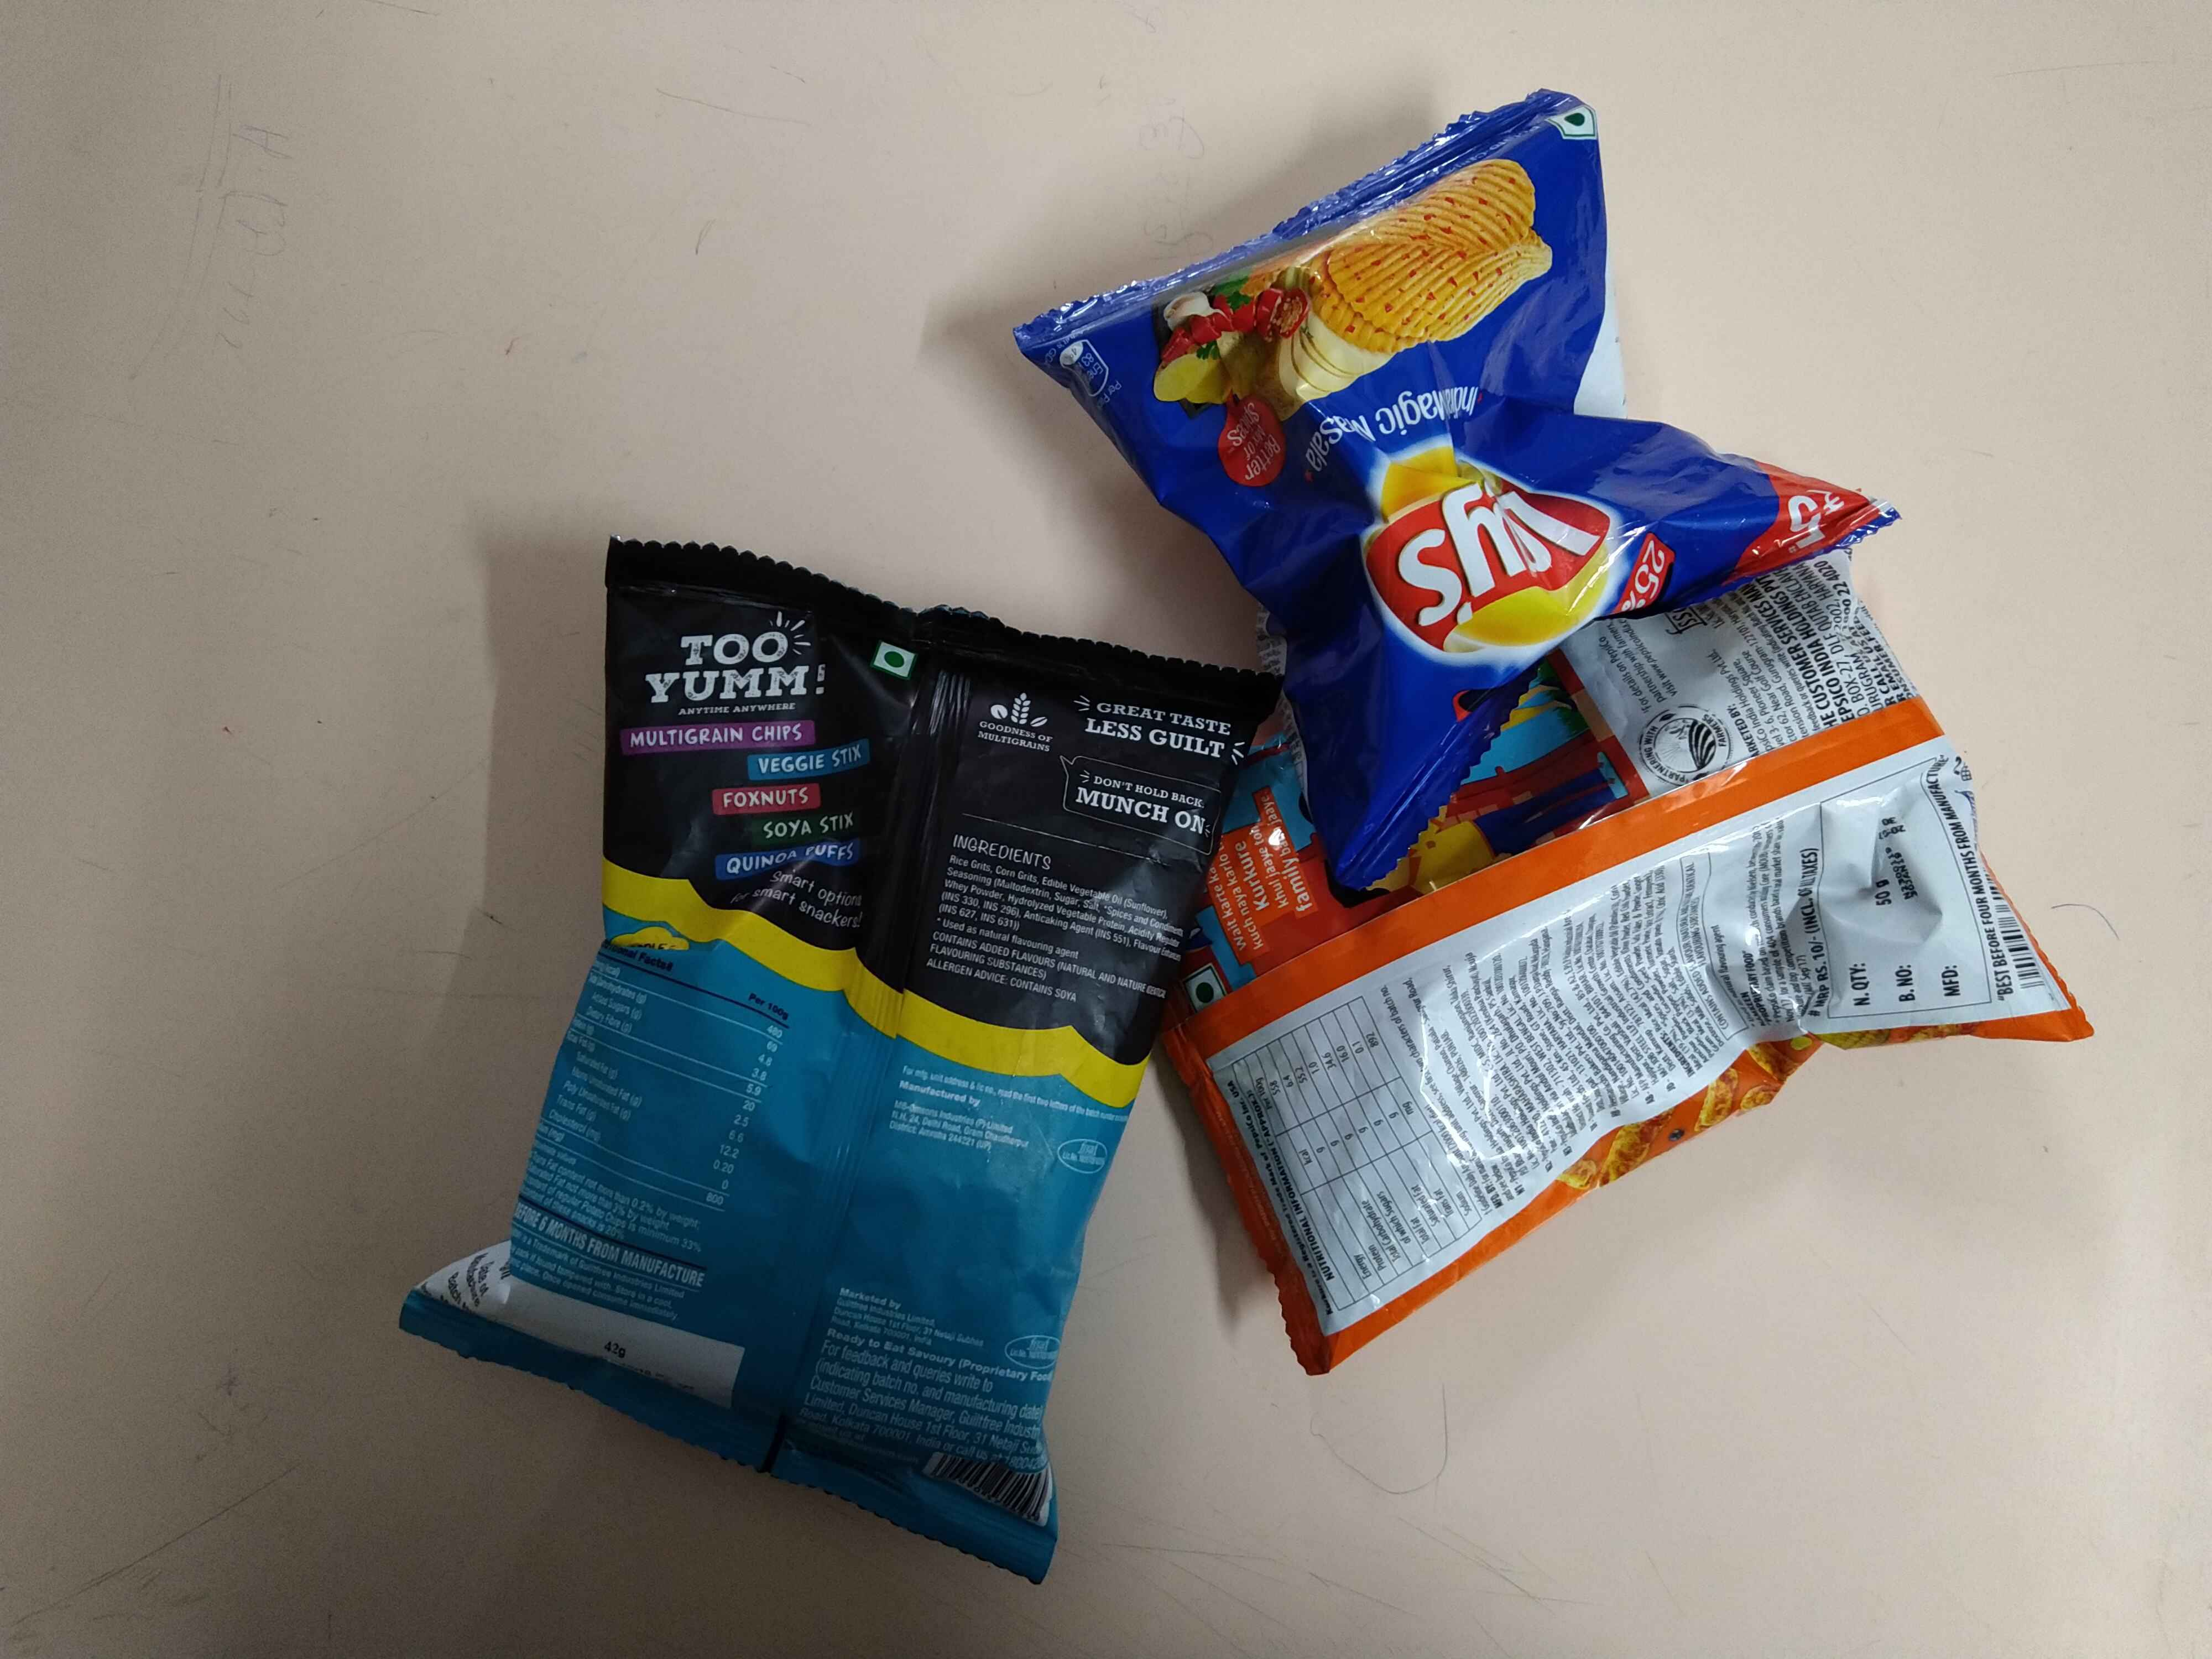Lays: (1362, 423, 1635, 699)
tooyumm: (634, 615, 852, 718)
